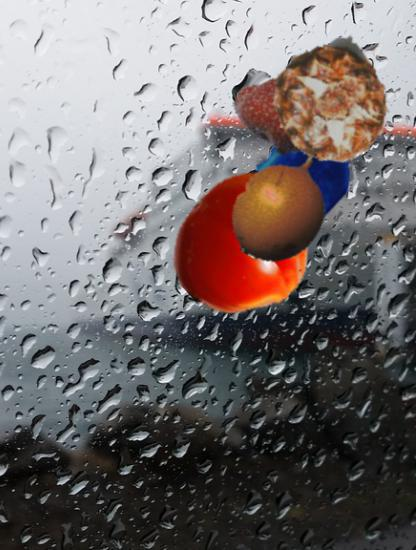Granadilla: (222, 144, 344, 266)
Huckleberry: (249, 129, 353, 233)
Pineapple: (270, 43, 391, 164)
Strawberry: (231, 52, 362, 183)
Tomato: (172, 176, 317, 321)
